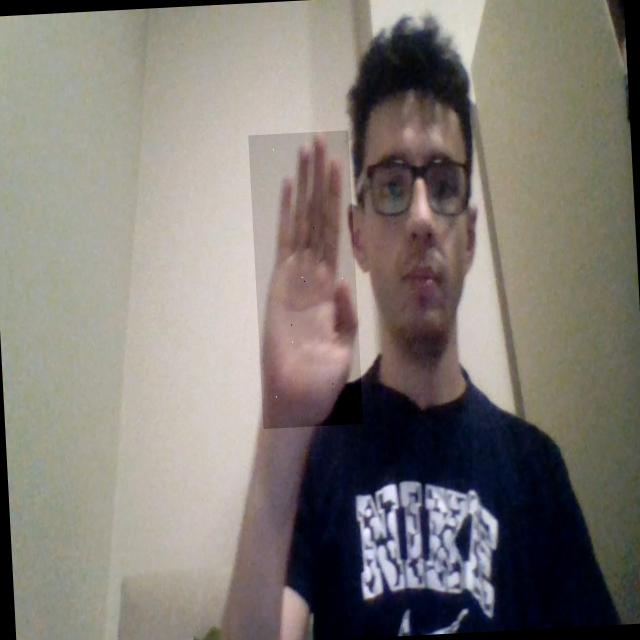hello: (248, 130, 364, 429)
